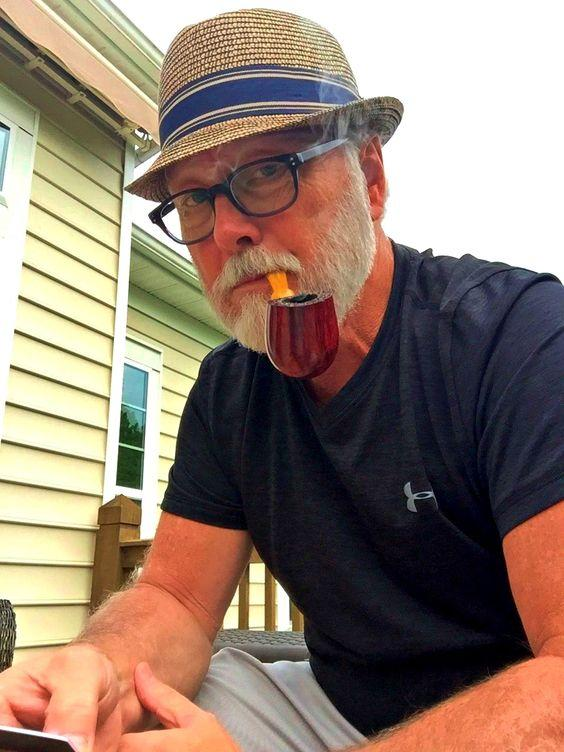trubka: (265, 271, 338, 377)
